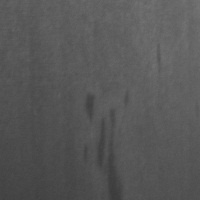inclusion: (82, 90, 132, 200), (79, 85, 100, 126), (151, 40, 166, 77)
